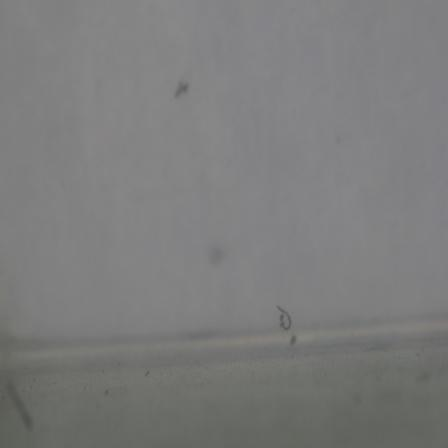Jentik-Nyamuk: (269, 297, 296, 340)
